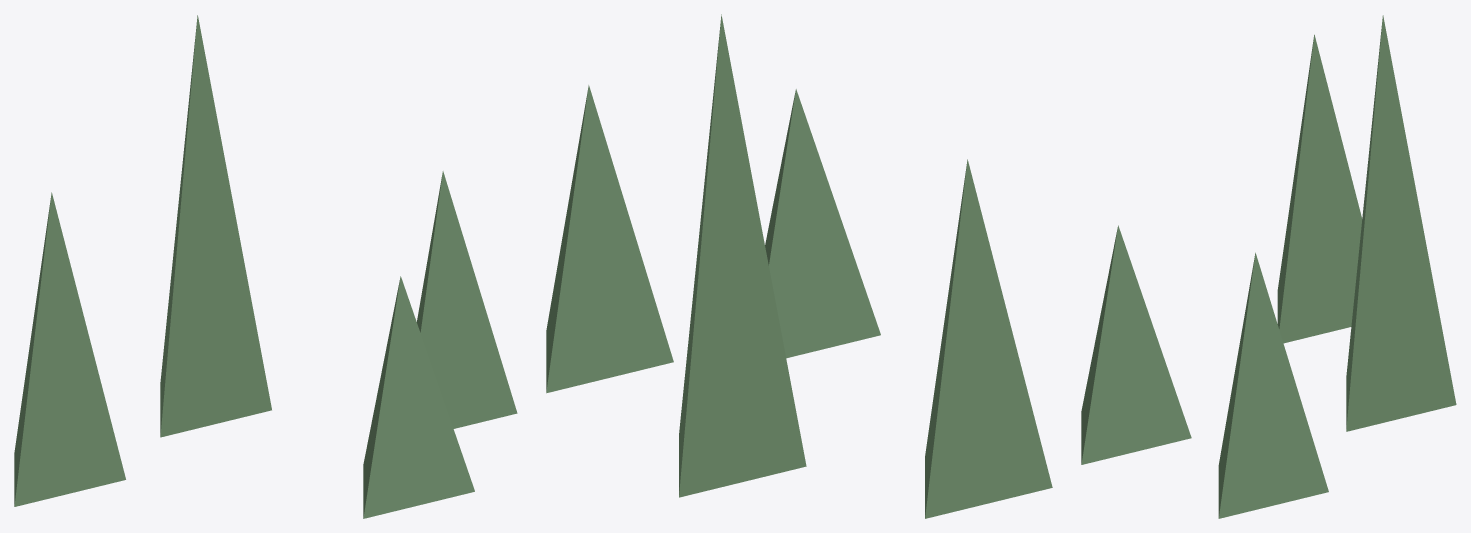
The model's file is grass-clump.glb.
The picture shows the model from 3 angles, left to right: view 1: azimuth 30°, elevation 25°; view 2: azimuth 150°, elevation 25°; view 3: azimuth 270°, elevation 25°; orthographic projection. The views are drawn at different scales.
Visible parts, largest first — view 1: grass-blade.001, grass-blade, grass-blade.003, grass-blade.002; view 2: grass-blade.001, grass-blade, grass-blade.002, grass-blade.003; view 3: grass-blade.001, grass-blade, grass-blade.002, grass-blade.003.
Part boxes in pixels (x1,y1,x2,y2): grass-blade.001: [160, 15, 271, 437]; grass-blade: [14, 192, 125, 506]; grass-blade.003: [363, 276, 474, 518]; grass-blade.002: [417, 171, 517, 428]; grass-blade.001: [679, 14, 806, 497]; grass-blade: [925, 159, 1052, 518]; grass-blade.002: [546, 85, 673, 393]; grass-blade.003: [765, 89, 880, 358]; grass-blade.001: [1346, 15, 1456, 431]; grass-blade: [1277, 34, 1362, 343]; grass-blade.002: [1218, 252, 1328, 518]; grass-blade.003: [1081, 225, 1191, 464].
Size of the model in its own units: 0.5499 by 0.44 by 0.3825.
